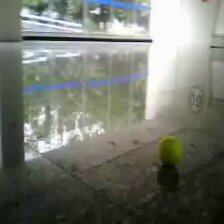tennis: (159, 137, 180, 164)
